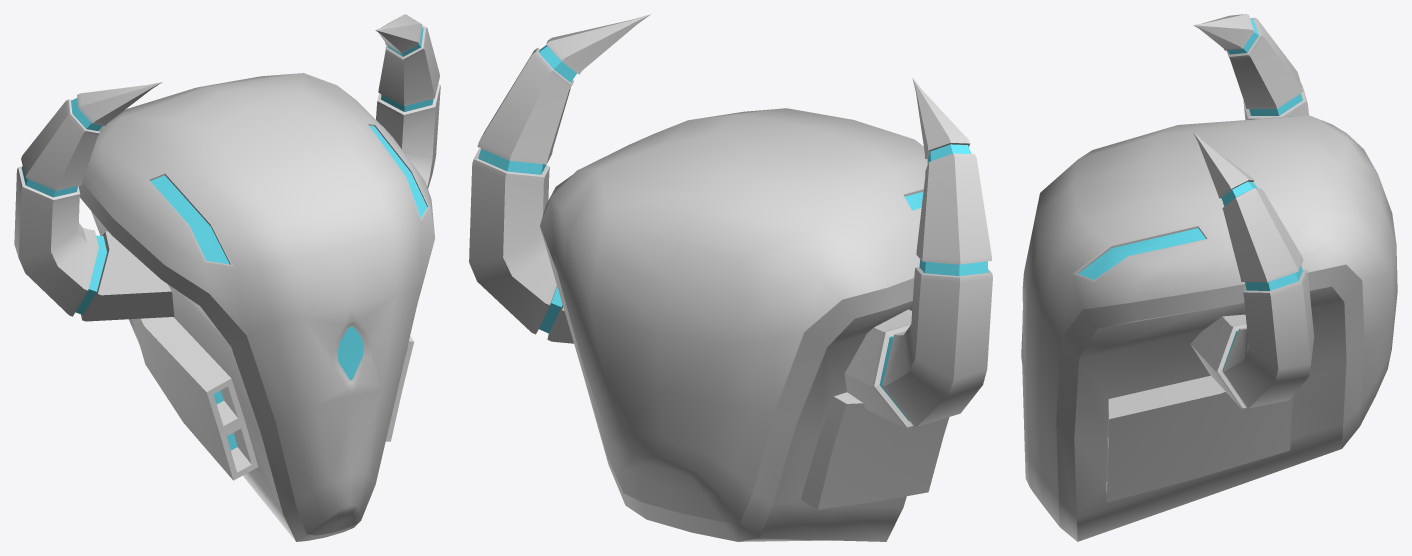
The model's file is Head_Mirage.fbx.
3 views of the same model, side by side, from view 1: azimuth 30°, elevation 25°; view 2: azimuth 150°, elevation 25°; view 3: azimuth 270°, elevation 25° (orthographic). The views are drawn at different scales.
Visible parts, largest first — view 1: Head_Mirage; view 2: Head_Mirage; view 3: Head_Mirage.
Part boxes in pixels (x1,y1,x2,y2): Head_Mirage: (14, 14, 440, 541); Head_Mirage: (469, 14, 992, 541); Head_Mirage: (1021, 14, 1397, 541).
Size of the model in its own units: 425 by 426 by 322.
